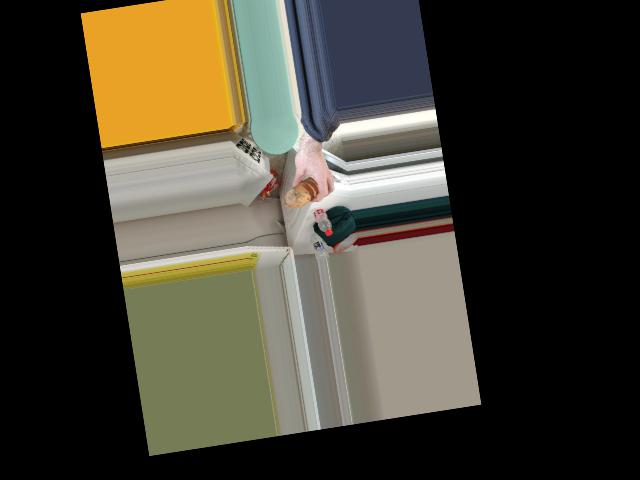sweet_potato: (288, 176, 320, 208)
